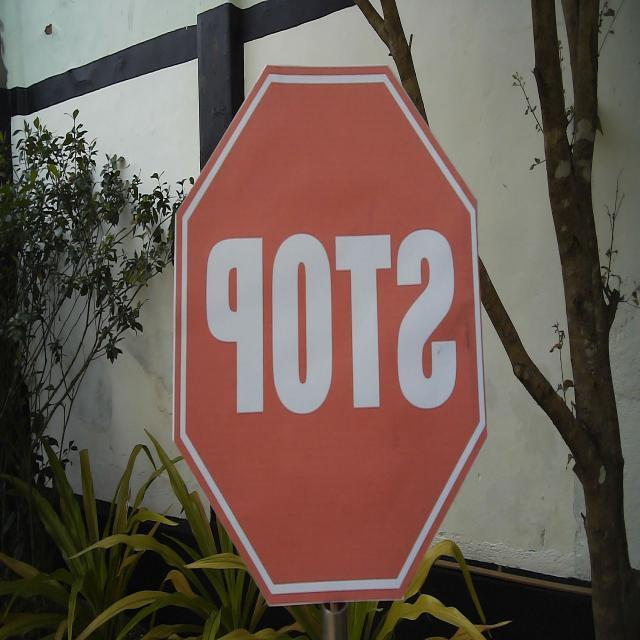stop: (170, 60, 490, 610)
